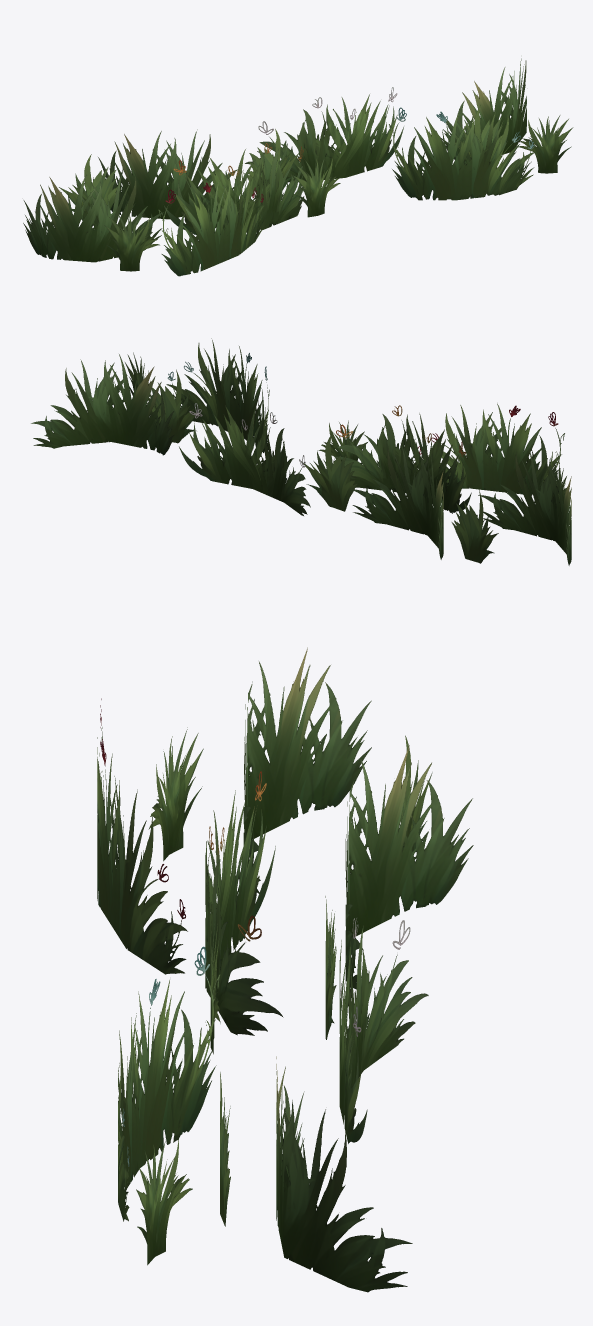
File: grass.fbx
3 renders of one model, top to bottom at view 1: azimuth 30°, elevation 25°; view 2: azimuth 150°, elevation 25°; view 3: azimuth 270°, elevation 25°, orthographic. The views are drawn at different scales.
Parts seen in each view (by area): view 1: StepTwo; view 2: StepTwo; view 3: StepTwo.
Boxes of the visible parts, bbox=[...] form: StepTwo: bbox=[23, 58, 573, 276]; StepTwo: bbox=[31, 338, 571, 565]; StepTwo: bbox=[97, 647, 473, 1292].
Size of the model in its own units: 26.47 by 5.1 by 8.68.
